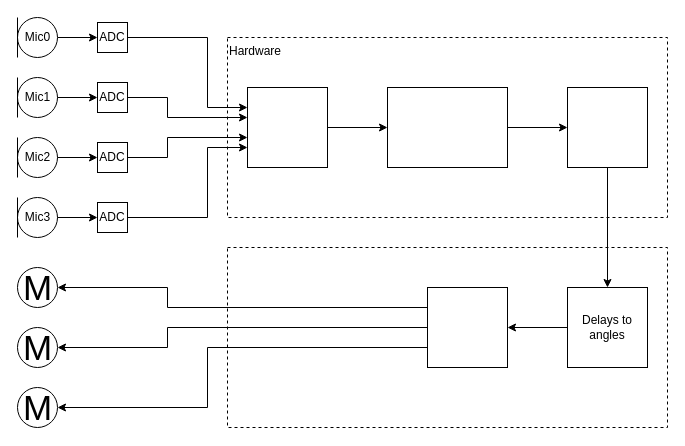
The diagram is 685 pixels wide and 446 high, and some of its shapes have lost their labels. Each missing label, with the box of its shape:
Cross correlation Moving window: (386, 86, 508, 168)
Peak finder: (566, 86, 648, 168)
PWM Controller: (426, 286, 508, 368)
Software: (226, 246, 668, 428)
SPI to PO: (246, 86, 328, 168)
